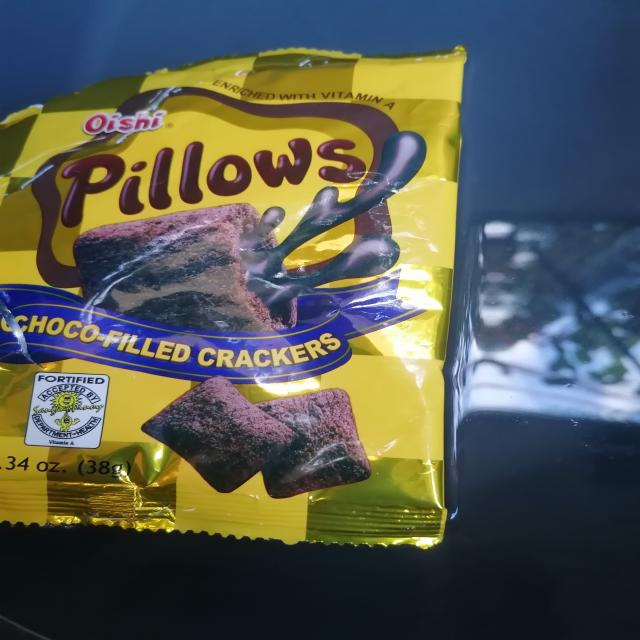Plastic Wrapper: (0, 29, 514, 573)
